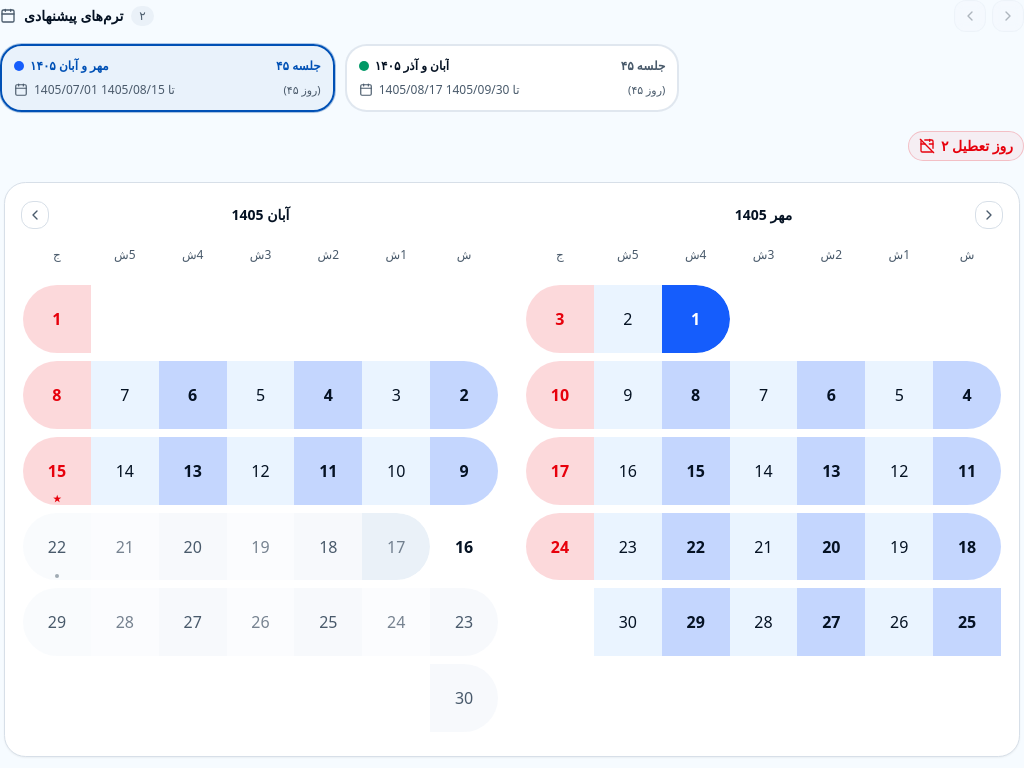
Scenario: ProposalsCalendar Component › does not show 'شروع ترم' action option in popover when clicking on the term start date
Click the text "آبان و آذر ۱۴۰۵" at x=412, y=66, box [375,58,449,74]
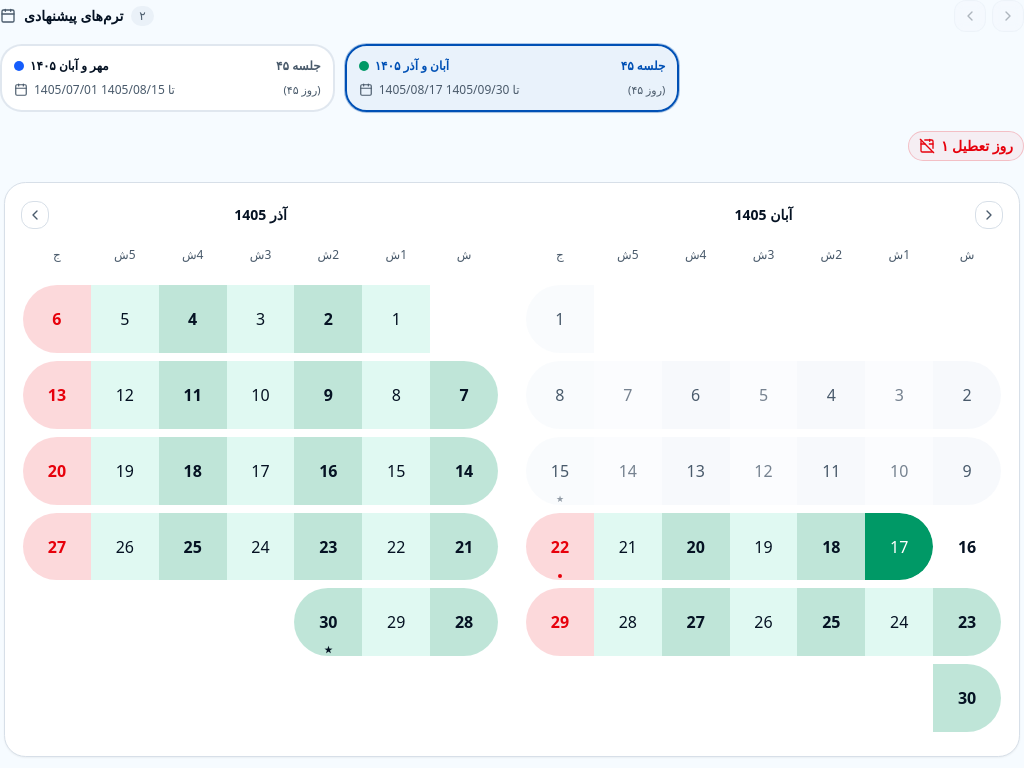
Click the button "17" below "آبان 1405" at x=899, y=547, box [865,513,933,580]
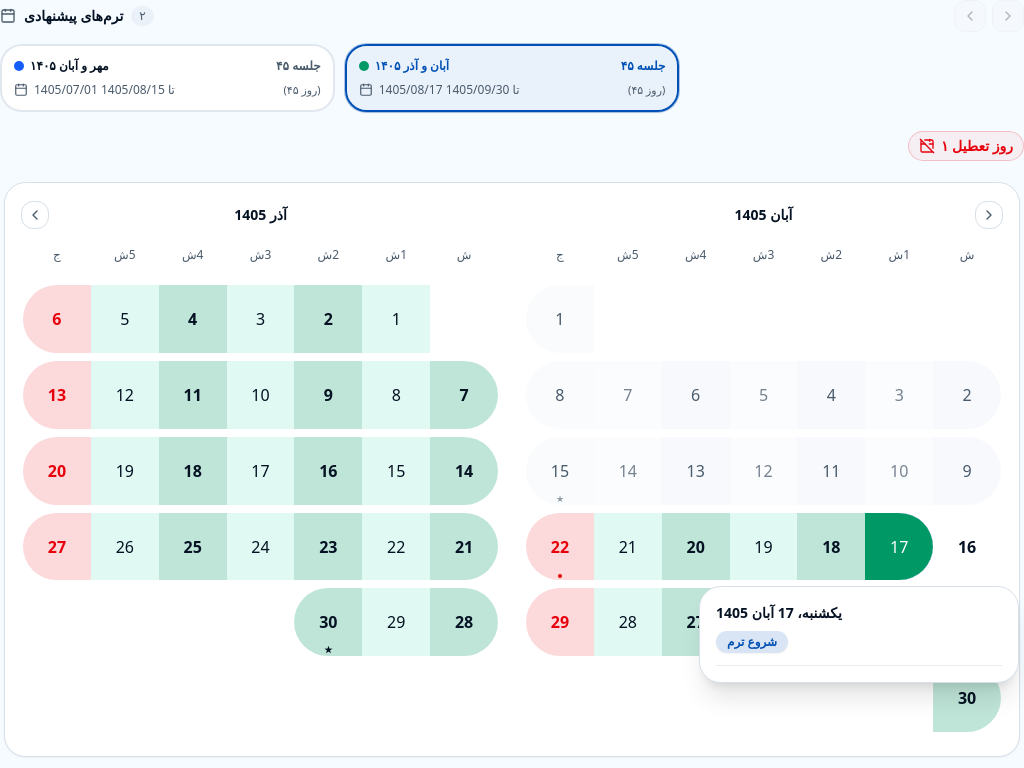
Expected: the text "شروع ترم" is shown, [716,631,788,653]
